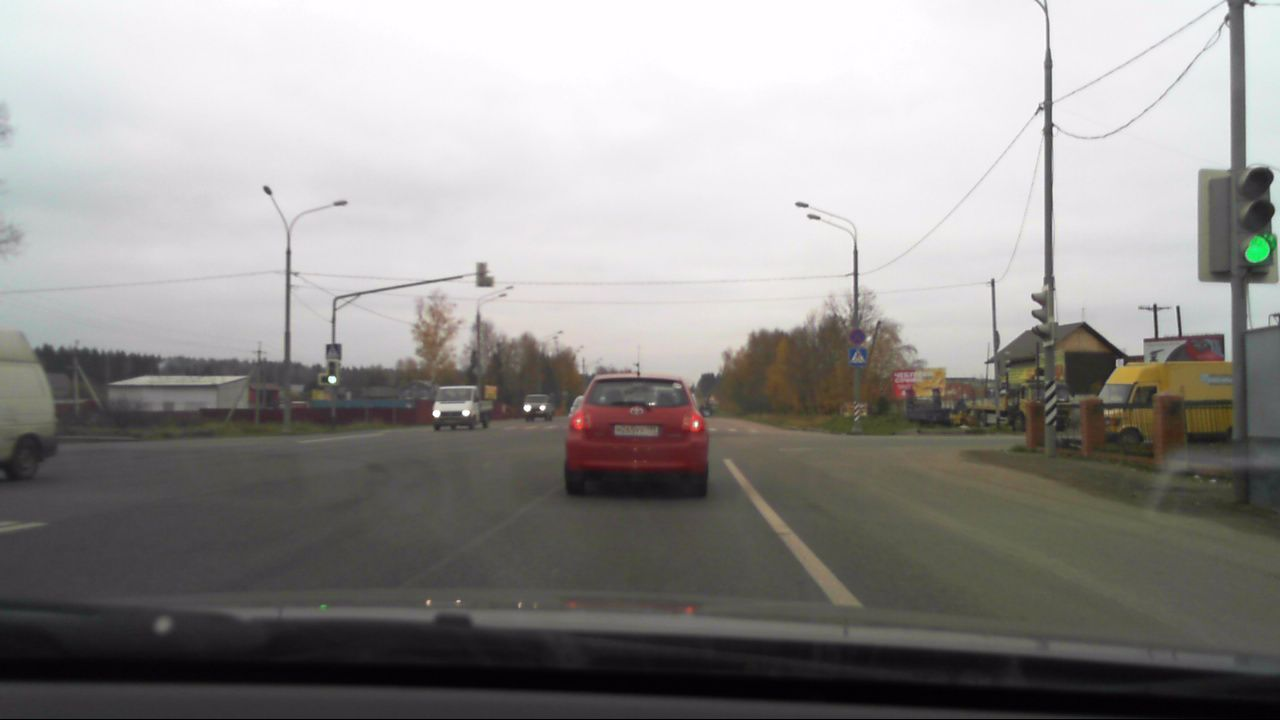No Parking: (847, 327, 865, 345)
